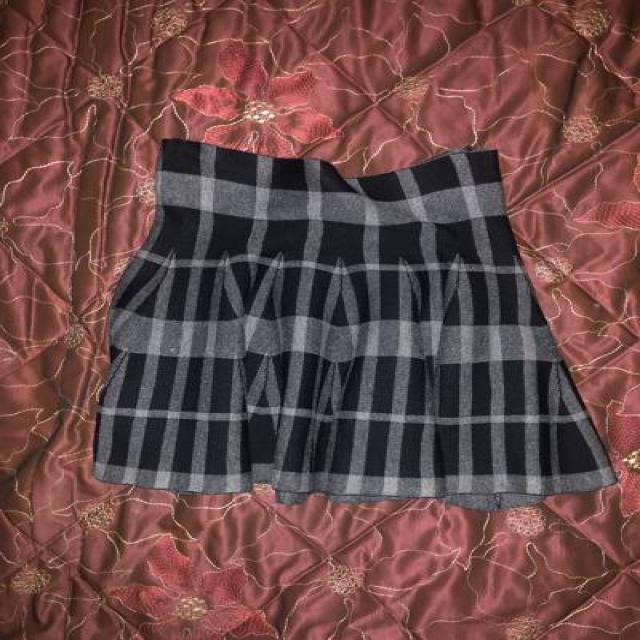Clothes -Biodegradable-: (89, 142, 617, 515)
